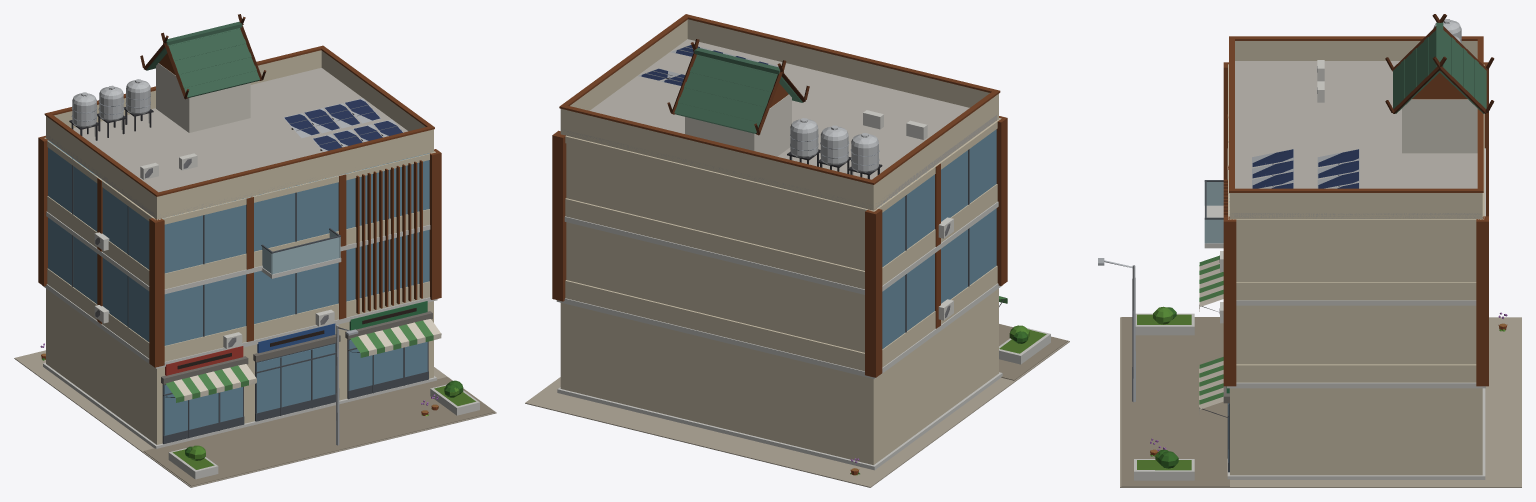
The model's file is shop_2.glb.
3 renders of one model, left to right at view 1: azimuth 30°, elevation 25°; view 2: azimuth 150°, elevation 25°; view 3: azimuth 270°, elevation 25°, orthographic. The views are drawn at different scales.
Parts seen in each view (by area): view 1: body; view 2: body; view 3: body.
Part boxes in pixels (box(x1,y1,x2,y2)): body: box(14, 14, 496, 487); body: box(525, 14, 1069, 487); body: box(1098, 14, 1521, 487).
Bounding box in the file's own units: 15.9 × 16.29 × 16.77.
